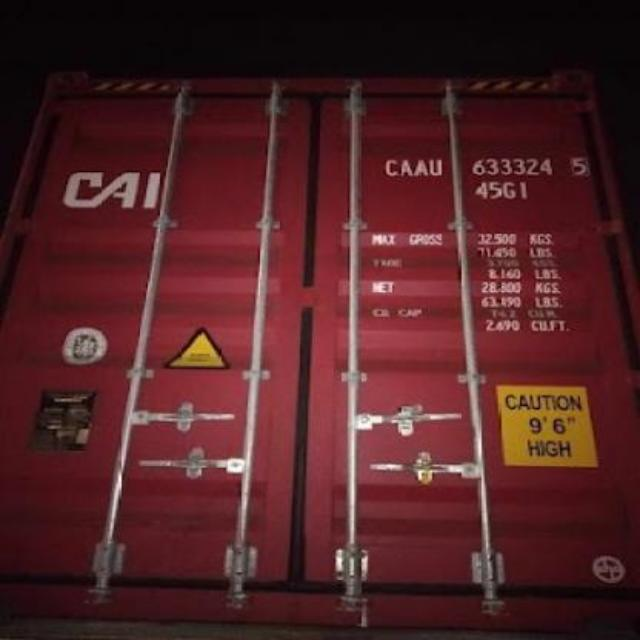2: (528, 157, 540, 175)
3: (512, 156, 526, 174), (486, 157, 499, 175), (500, 157, 512, 175)
4: (542, 157, 556, 175)
5: (570, 156, 588, 174)
6: (472, 156, 486, 174)
A: (412, 157, 430, 177), (400, 159, 412, 177)
C: (388, 157, 400, 177)
U: (428, 156, 444, 177)
